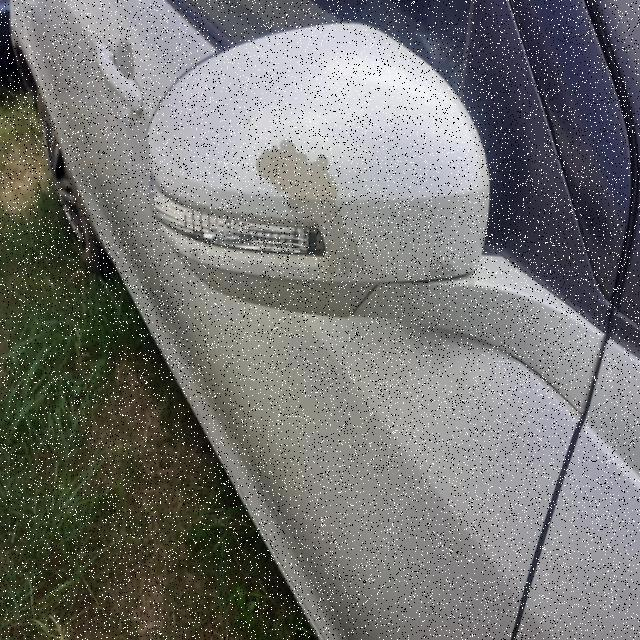Sidemirror-Damage: (145, 12, 502, 349)
